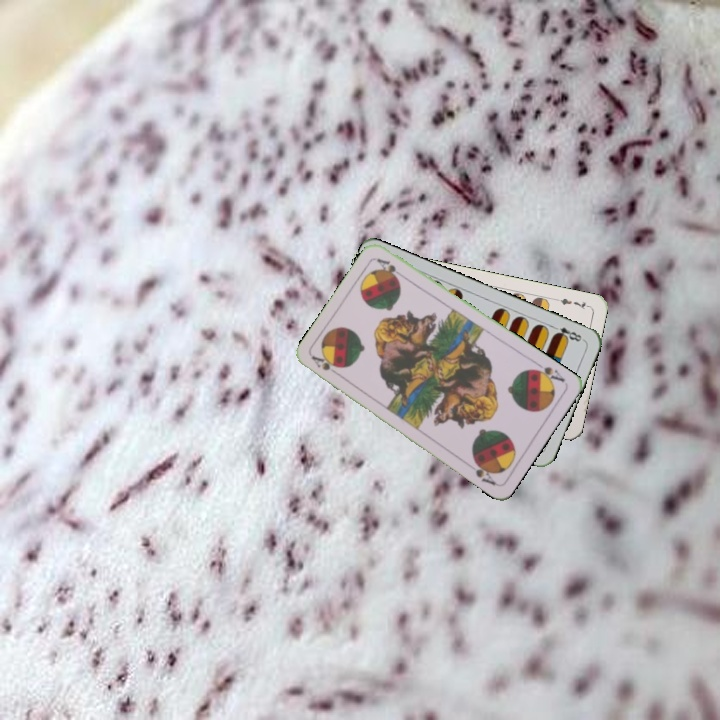E7: (551, 294, 592, 312)
E8: (548, 321, 586, 344)
SA: (528, 358, 568, 387), (308, 352, 344, 379)
